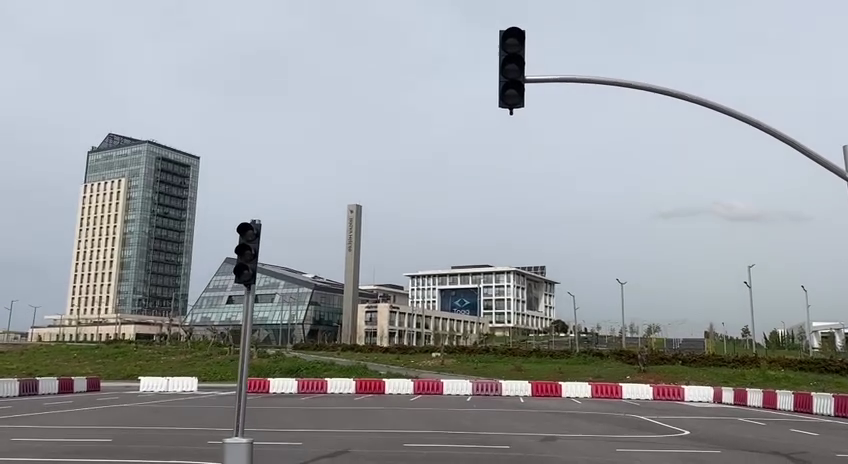trafficLight: (492, 23, 531, 117), (231, 217, 265, 293)
